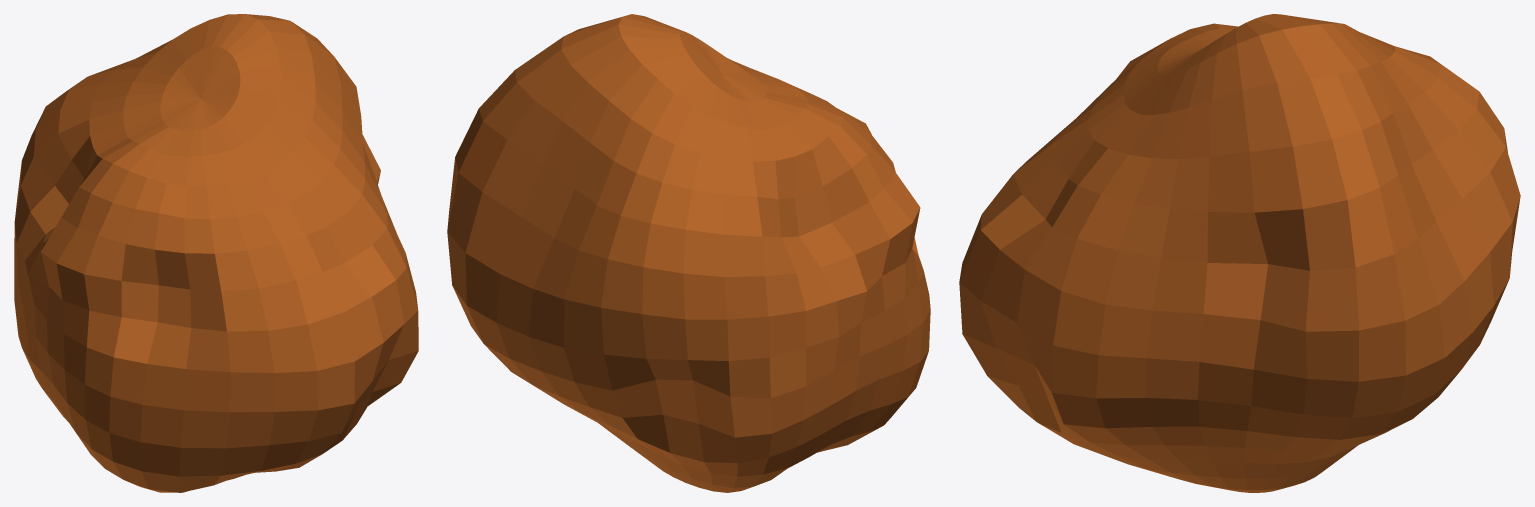
The model's file is Asteriod.fbx.
The picture shows the model from 3 angles, left to right: view 1: azimuth 30°, elevation 25°; view 2: azimuth 150°, elevation 25°; view 3: azimuth 270°, elevation 25°; orthographic projection. The views are drawn at different scales.
Visible parts, largest first — view 1: Asteriod; view 2: Asteriod; view 3: Asteriod.
Part boxes in pixels (bbox=[...]): Asteriod: bbox=[14, 14, 418, 492]; Asteriod: bbox=[447, 14, 930, 492]; Asteriod: bbox=[959, 14, 1520, 492].
Bounding box in the file's own units: 2529 × 2756 × 2805.
